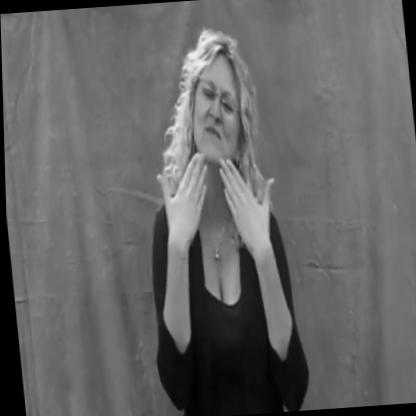ThankYou: (132, 20, 255, 253)
